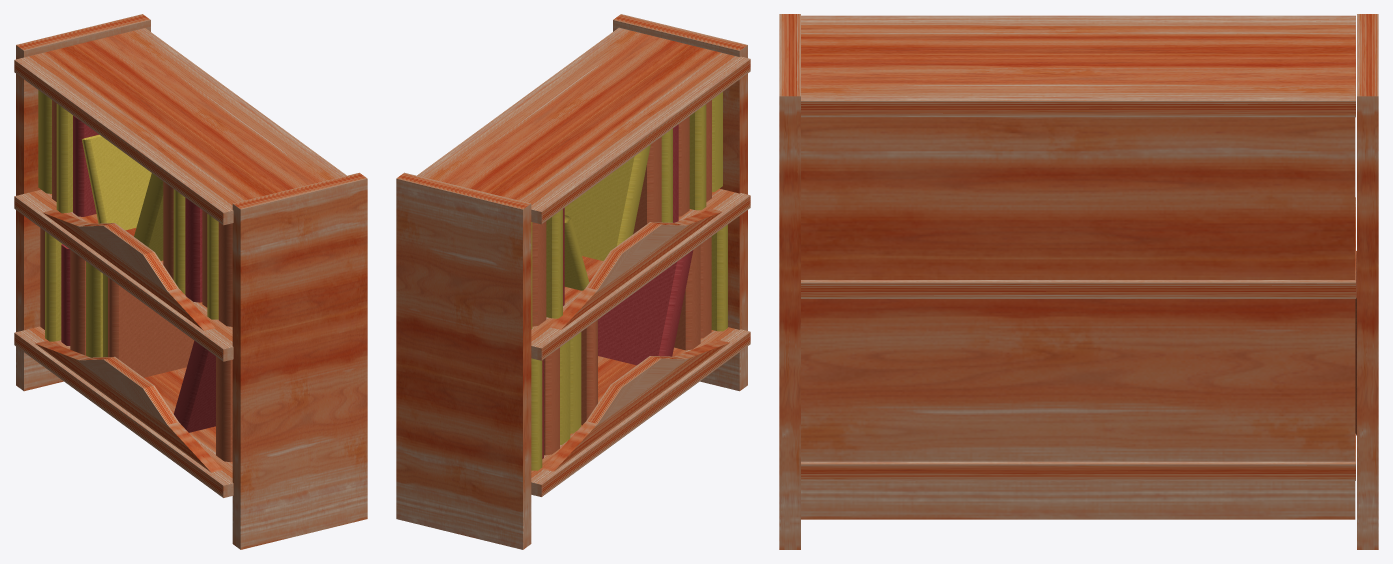
Rendered from bookshelf.fbx.
3 views of the same model, side by side, from view 1: azimuth 30°, elevation 25°; view 2: azimuth 150°, elevation 25°; view 3: azimuth 270°, elevation 25° (orthographic). The views are drawn at different scales.
Visible parts, largest first — view 1: verticleSide_L, top, verticleSide_R, bottomShelf, decor_bottomShelf, pCube36, topShelf, decor_topShelf, pCube22, pCube41, pCube32, pCube20 (+15 smaller); view 2: verticleSide_R, top, verticleSide_L, pCube41, bottomShelf, topShelf, decor_bottomShelf, pCube30, decor_topShelf, pCube29, pCube38, pCube20 (+15 smaller); view 3: back, top, verticleSide_R, verticleSide_L, bottomShelf, topShelf.
Part boxes in pixels (x1=…): verticleSide_L: x1=232, y1=172, x2=367, y2=549; top: x1=14, y1=28, x2=346, y2=225; verticleSide_R: x1=16, y1=14, x2=150, y2=391; bottomShelf: x1=14, y1=326, x2=233, y2=497; decor_bottomShelf: x1=35, y1=341, x2=222, y2=472; pCube36: x1=108, y1=277, x2=194, y2=377; topShelf: x1=14, y1=190, x2=233, y2=361; decor_topShelf: x1=43, y1=210, x2=214, y2=330; pCube22: x1=82, y1=134, x2=151, y2=230; pCube41: x1=174, y1=340, x2=215, y2=432; pCube32: x1=45, y1=231, x2=61, y2=341; pCube20: x1=56, y1=103, x2=72, y2=213; verticleSide_R: x1=396, y1=172, x2=531, y2=549; top: x1=417, y1=27, x2=750, y2=224; verticleSide_L: x1=613, y1=14, x2=747, y2=391; pCube41: x1=598, y1=250, x2=693, y2=365; bottomShelf: x1=531, y1=327, x2=750, y2=496; topShelf: x1=531, y1=188, x2=750, y2=360; decor_bottomShelf: x1=542, y1=340, x2=729, y2=471; pCube30: x1=564, y1=144, x2=650, y2=260; decor_topShelf: x1=550, y1=209, x2=721, y2=329; pCube29: x1=689, y1=104, x2=706, y2=210; pCube38: x1=674, y1=244, x2=700, y2=350; pCube20: x1=546, y1=209, x2=562, y2=318; back: x1=801, y1=117, x2=1355, y2=519; top: x1=801, y1=15, x2=1355, y2=117; verticleSide_R: x1=1357, y1=14, x2=1378, y2=549; verticleSide_L: x1=779, y1=14, x2=800, y2=549; bottomShelf: x1=801, y1=433, x2=1355, y2=480; topShelf: x1=801, y1=197, x2=1355, y2=298.
Bounding box in the file's own units: 1.53 × 3.63 × 4.34.
